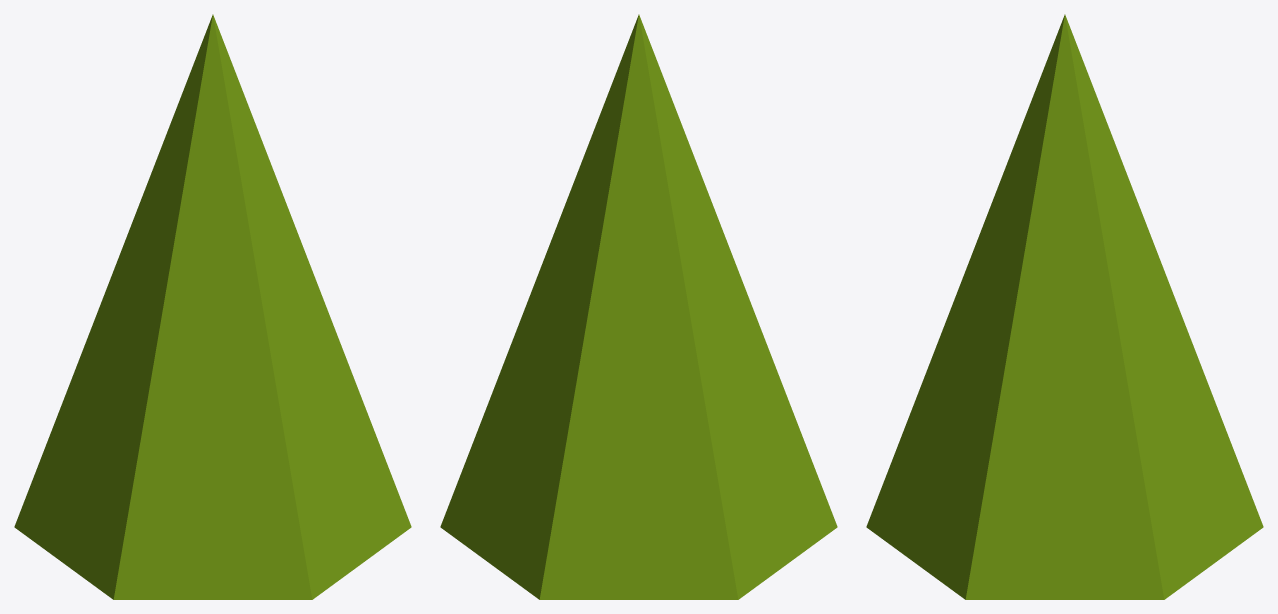
Rendered from tree-summer-leaves-011.glb.
3 renders of one model, left to right at view 1: azimuth 30°, elevation 25°; view 2: azimuth 150°, elevation 25°; view 3: azimuth 270°, elevation 25°, orthographic.
Visible parts, largest first — view 1: Cube.001_234; view 2: Cube.001_234; view 3: Cube.001_234.
Part boxes in pixels (<box>): Cube.001_234: <box>14,14,411,599</box>; Cube.001_234: <box>440,14,837,599</box>; Cube.001_234: <box>866,14,1263,599</box>.
Bounding box in the file's own units: 0.6985 × 1.15 × 0.8065.
